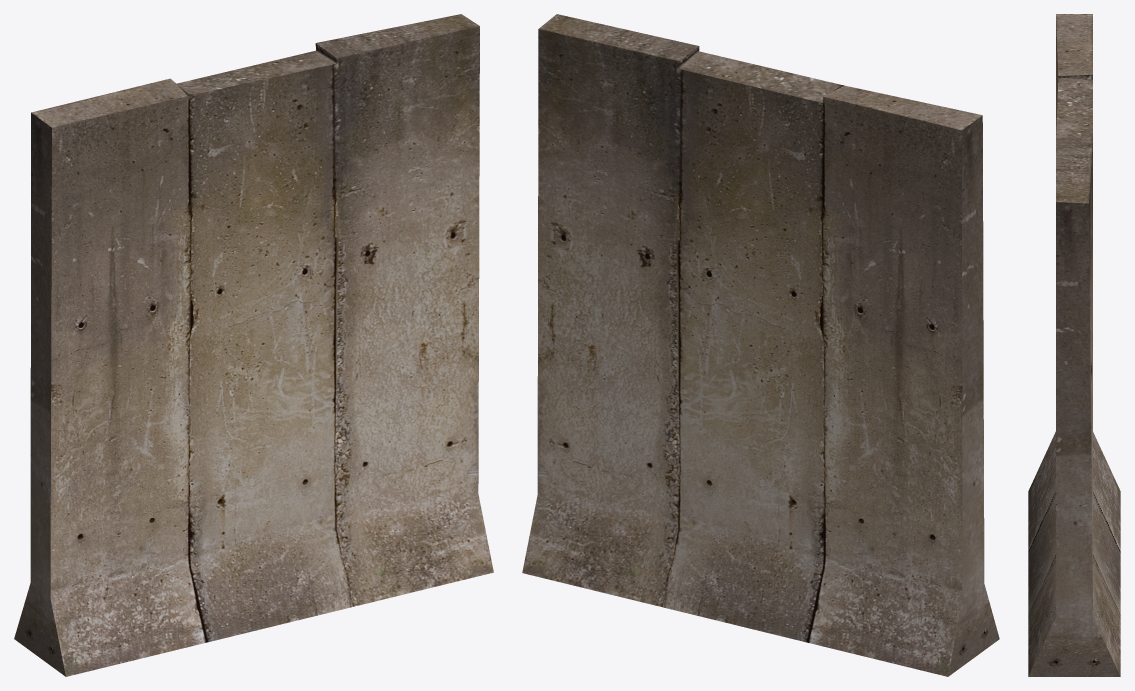
Rendered from wall2.fbx.
3 views of the same model, side by side, from view 1: azimuth 30°, elevation 25°; view 2: azimuth 150°, elevation 25°; view 3: azimuth 270°, elevation 25° (orthographic). The views are drawn at different scales.
Parts seen in each view (by area): view 1: wall2; view 2: wall2; view 3: wall2.
Part boxes in pixels (x1,y1,x2,y2): wall2: (14,14,493,676); wall2: (522,14,999,676); wall2: (1028,14,1120,676).
Bounding box in the file's own units: 145 × 30.24 × 173.
